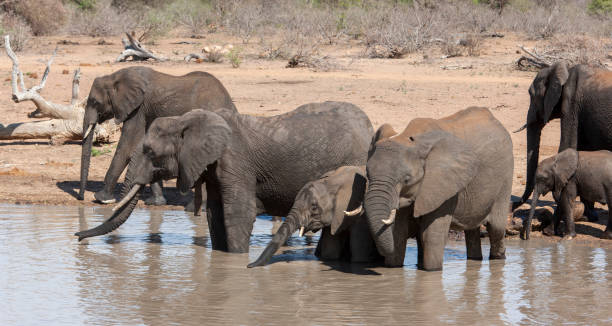africanelephant: (107, 104, 239, 200)
